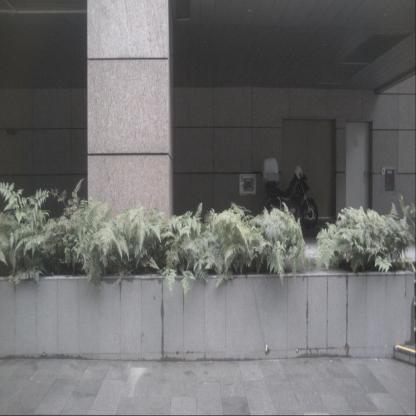vehicle-motorcycle: (262, 158, 318, 230)
